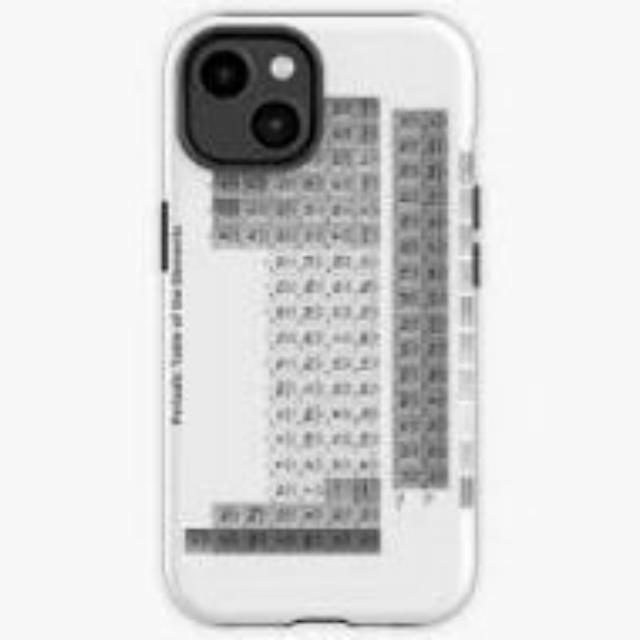fake: (133, 0, 496, 638)
